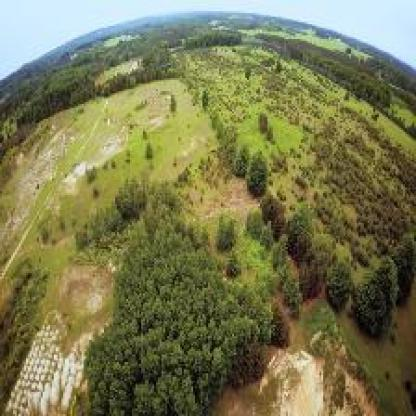other: (262, 338, 388, 411), (17, 307, 96, 410)
